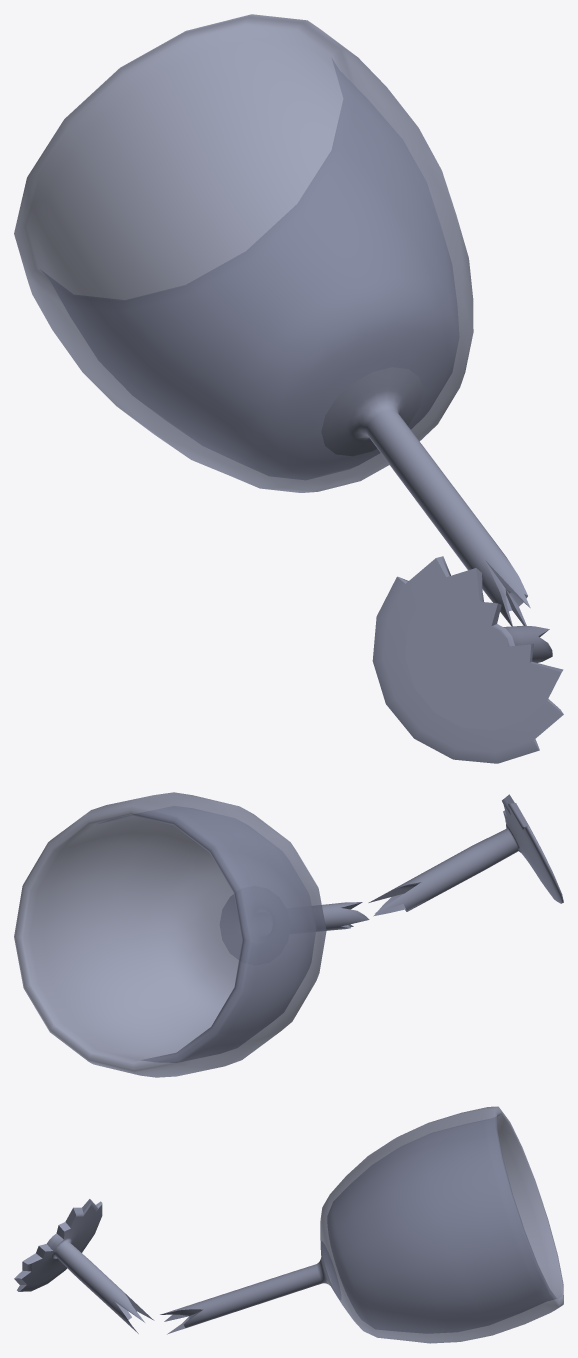
Rendered from wineGlassBrokenStem.fbx.
The picture shows the model from 3 angles, top to bottom: view 1: azimuth 30°, elevation 25°; view 2: azimuth 150°, elevation 25°; view 3: azimuth 270°, elevation 25°; orthographic projection. The views are drawn at different scales.
Parts seen in each view (by area): view 1: wineglassTop, wineGlassBase; view 2: wineglassTop, wineGlassBase; view 3: wineglassTop, wineGlassBase.
Boxes of the visible parts, left/top/right/bottom form: wineglassTop: left=14, top=14, right=530, bottom=626; wineGlassBase: left=372, top=556, right=563, bottom=763; wineglassTop: left=14, top=792, right=369, bottom=1077; wineGlassBase: left=368, top=794, right=563, bottom=916; wineglassTop: left=160, top=1106, right=563, bottom=1343; wineGlassBase: left=14, top=1199, right=154, bottom=1333.
Bounding box in the file's own units: 13.96 × 13.46 × 31.2.
